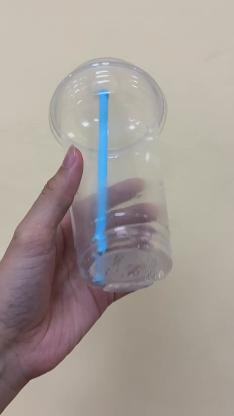Plastic Cup: (48, 54, 176, 290)
